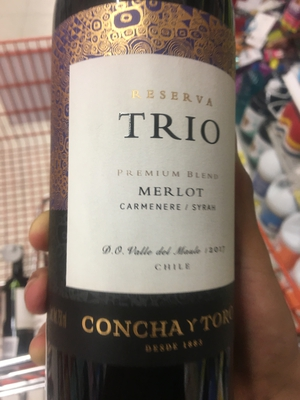trio merlot: (42, 10, 253, 400)
